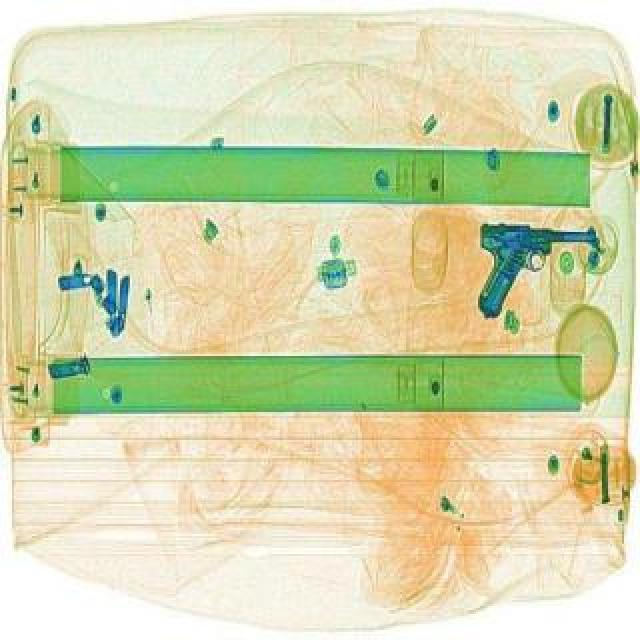gun: (472, 216, 602, 316)
